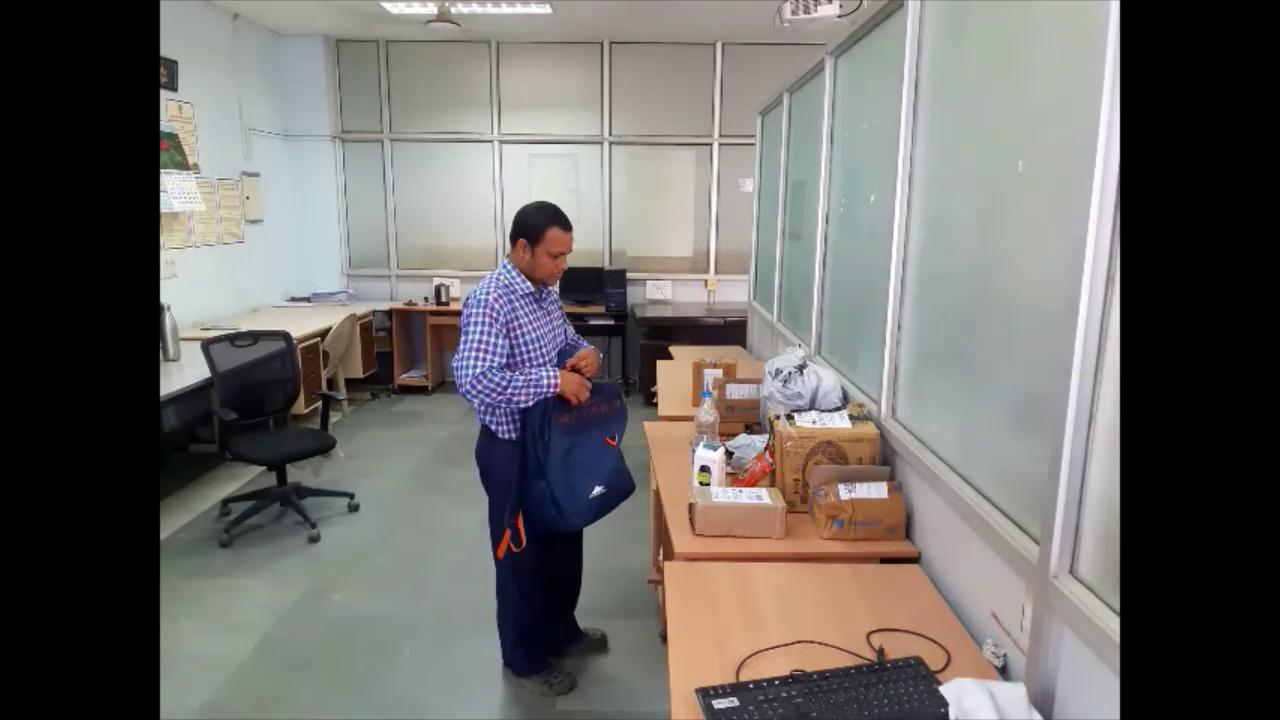shoplifting: (450, 196, 641, 704)
